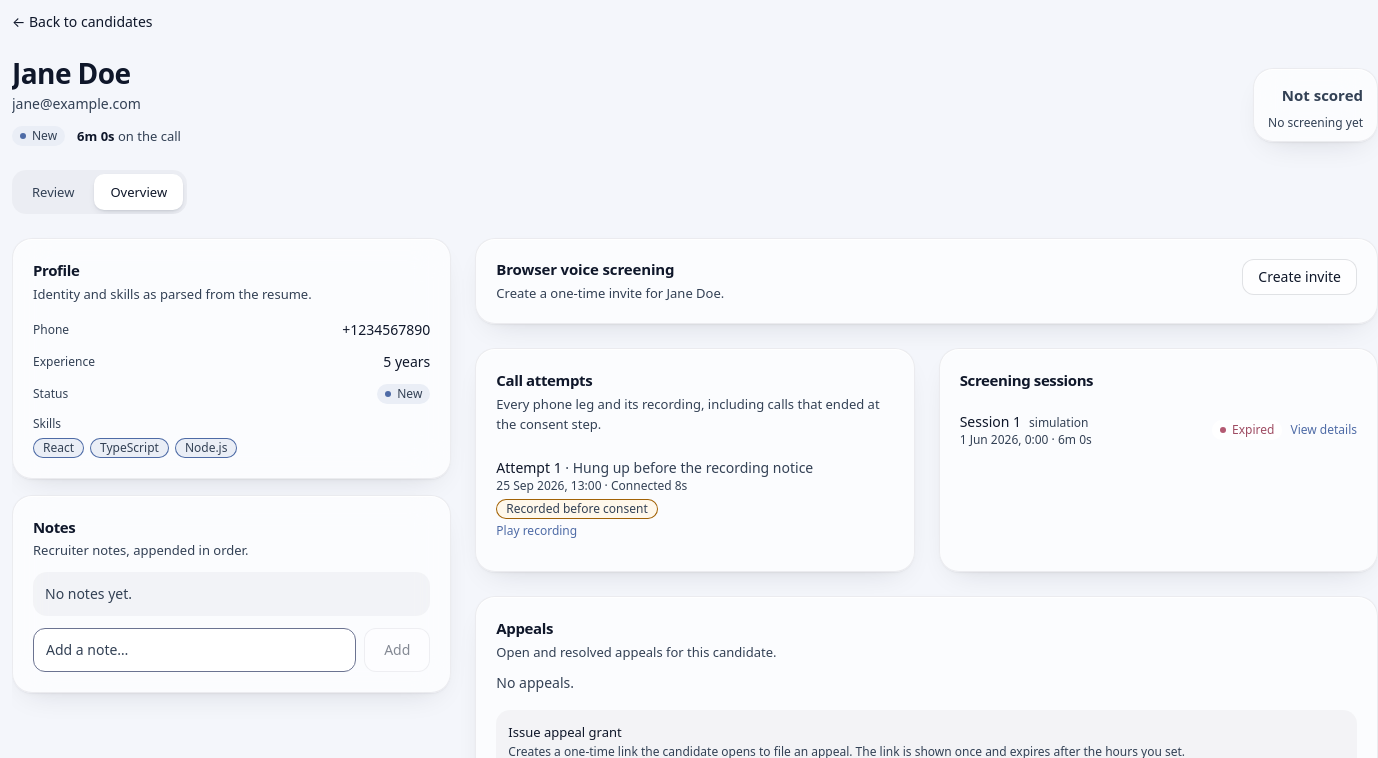
Scenario: CandidateDetailPage tabs › call recordings before a completed screening (M011 F2) › has ONE attempt list (one player) on the page, and switching tabs stops the audio
Expected: the heading "Jane Doe" is shown, [12,54,130,92]
Click the button "Play recording".
click(537, 530)  # box [496,522,577,538]
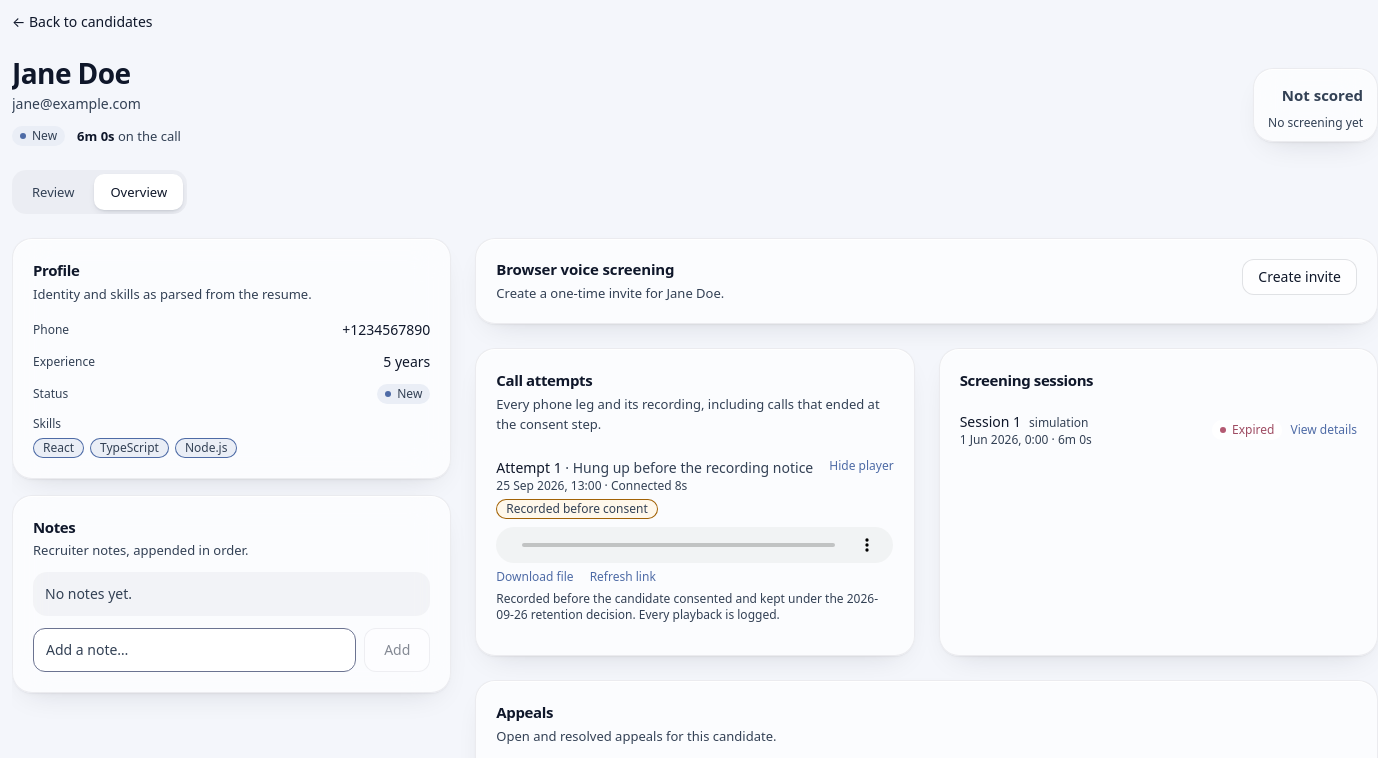
Expected: the element named "Attempt 1 recording" is shown, [496,526,894,562]
Click the tab "Review".
click(53, 192)  # box [16,174,90,210]
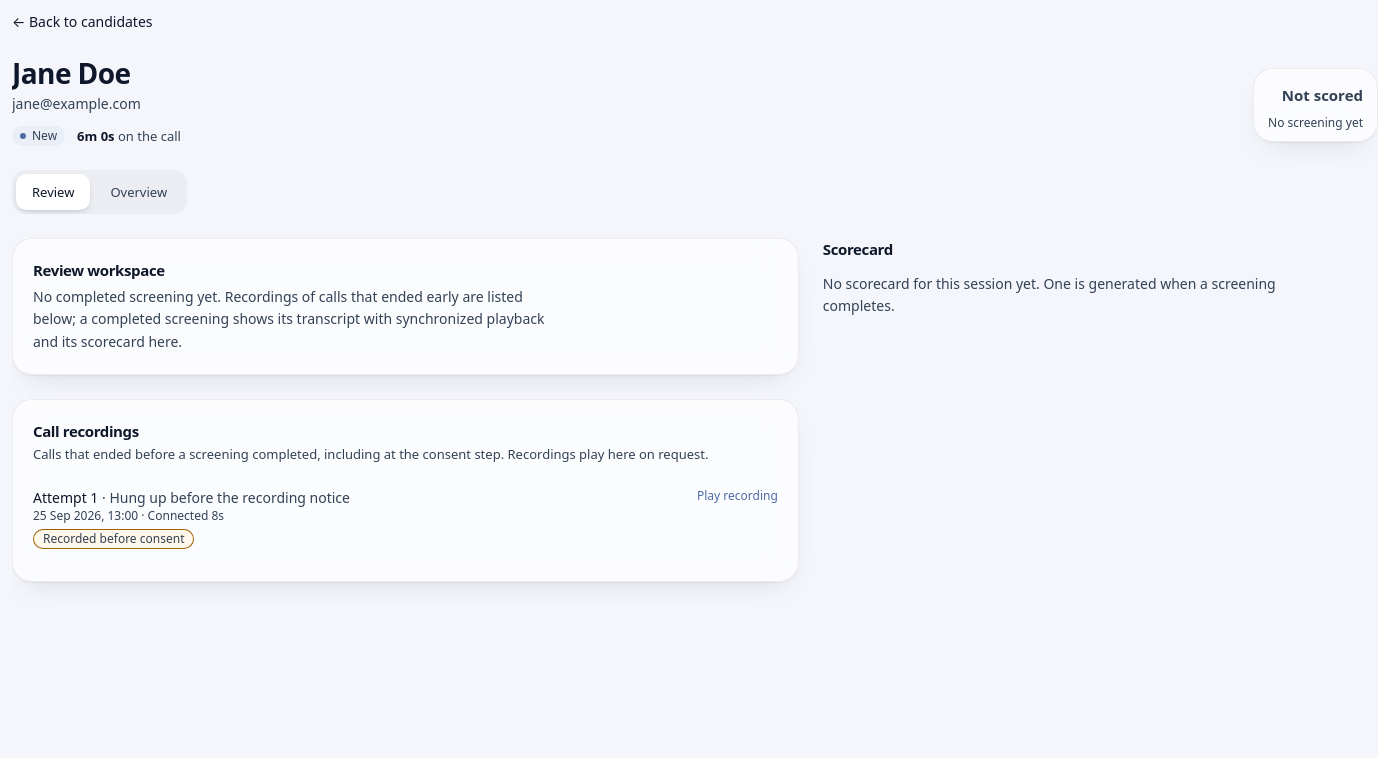
Expected: the number of buttons "Play recording" is 1, [697,488,778,504]
